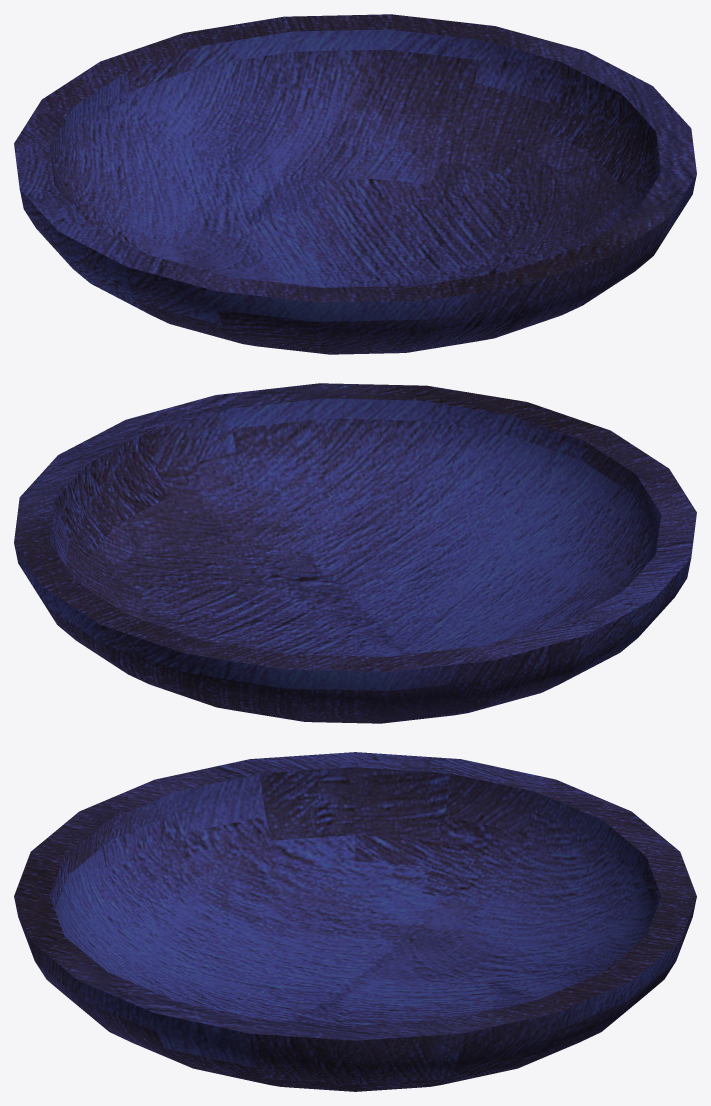
Rendered from Fire Container.fbx.
3 renders of one model, top to bottom at view 1: azimuth 30°, elevation 25°; view 2: azimuth 150°, elevation 25°; view 3: azimuth 270°, elevation 25°, orthographic.
Visible parts, largest first — view 1: polySurface49; view 2: polySurface49; view 3: polySurface49.
Part boxes in pixels (left/top/right/bottom): polySurface49: left=14, top=14, right=696, bottom=354; polySurface49: left=14, top=383, right=696, bottom=723; polySurface49: left=14, top=752, right=696, bottom=1091.
Size of the model in its own units: 0.2707 by 0.0518 by 0.2707.
1 material, 1 textured.
